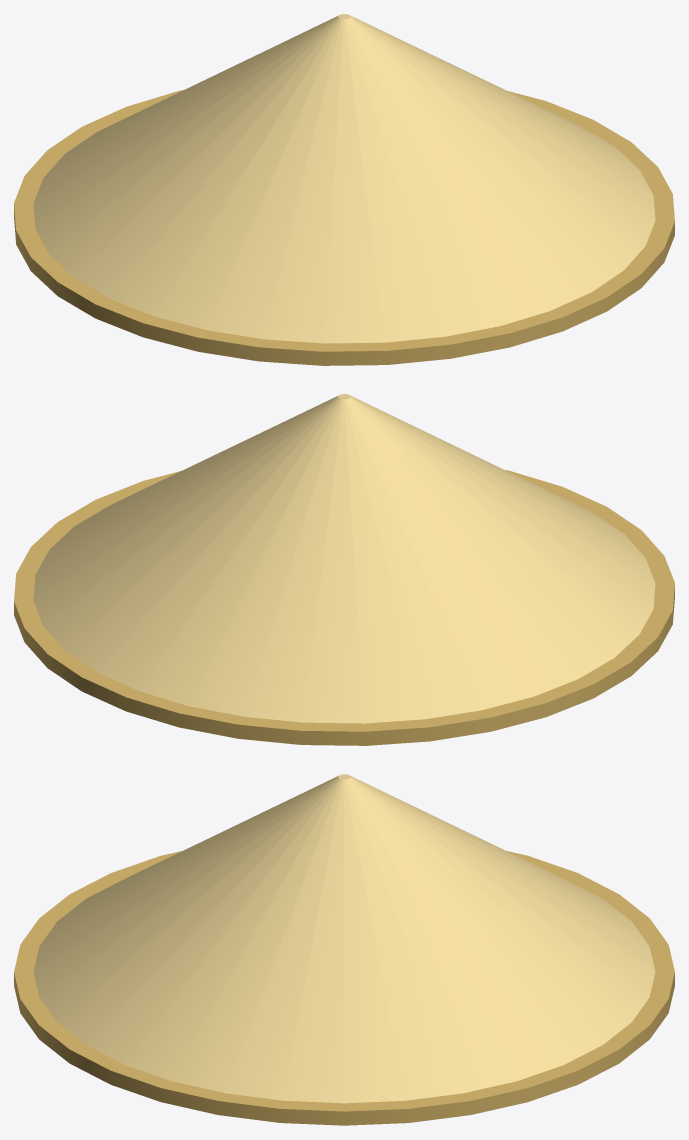
File: hat_nonla.glb
The picture shows the model from 3 angles, top to bottom: view 1: azimuth 30°, elevation 25°; view 2: azimuth 150°, elevation 25°; view 3: azimuth 270°, elevation 25°; orthographic projection.
Visible parts, largest first — view 1: Cone, Rim; view 2: Cone, Rim; view 3: Cone, Rim.
Part boxes in pixels (left/top/right/bottom): Cone: left=33, top=14, right=655, bottom=343; Rim: left=14, top=90, right=674, bottom=365; Cone: left=33, top=394, right=655, bottom=723; Rim: left=14, top=470, right=674, bottom=745; Cone: left=33, top=774, right=655, bottom=1103; Rim: left=14, top=851, right=674, bottom=1125.
Bounding box in the file's own units: 1.06 × 0.37 × 1.06.
